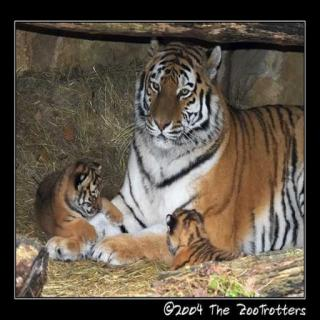Tiger: (65, 34, 306, 267), (43, 149, 121, 266), (156, 202, 237, 272)
